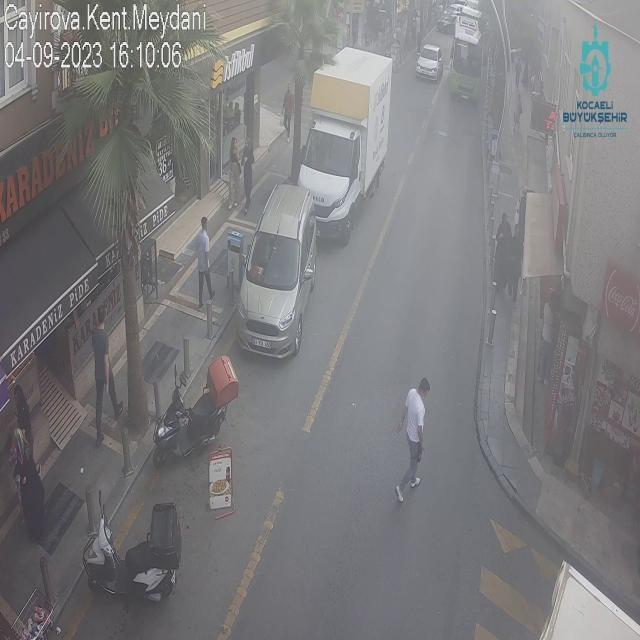Bus: (449, 13, 484, 102)
Car: (414, 44, 444, 82)
Cycle: (81, 490, 182, 610), (150, 354, 238, 468)
Truck: (296, 48, 394, 243)
Van: (233, 182, 318, 361)
